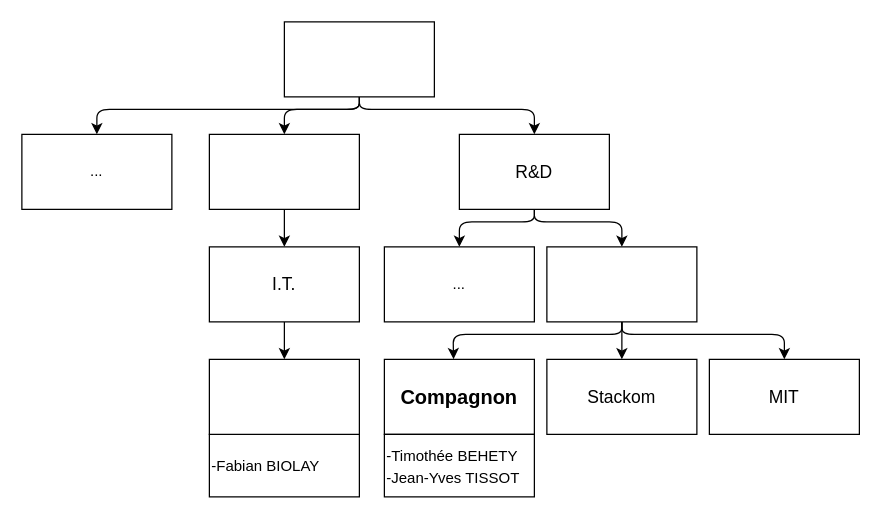
Some shapes in this 881 by 519 pixel diagram are drawn without their labels. Each missing label, with the box of its shape:
Direction: (283, 21, 434, 97)
Qualité: (208, 133, 359, 209)
Système: (546, 246, 697, 322)
Web: (208, 358, 359, 434)
